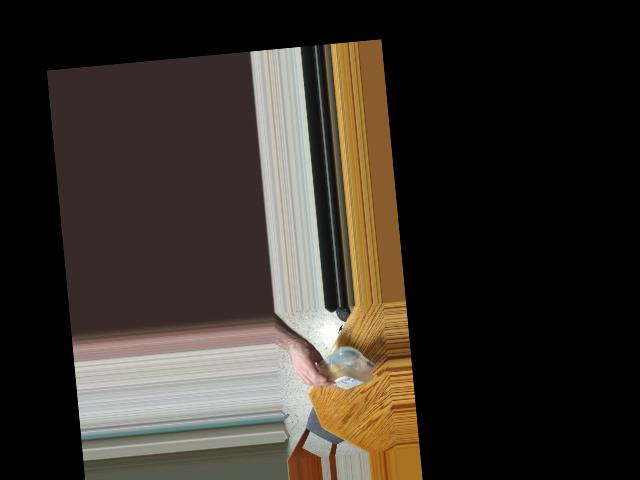cheese: (305, 350, 372, 391)
